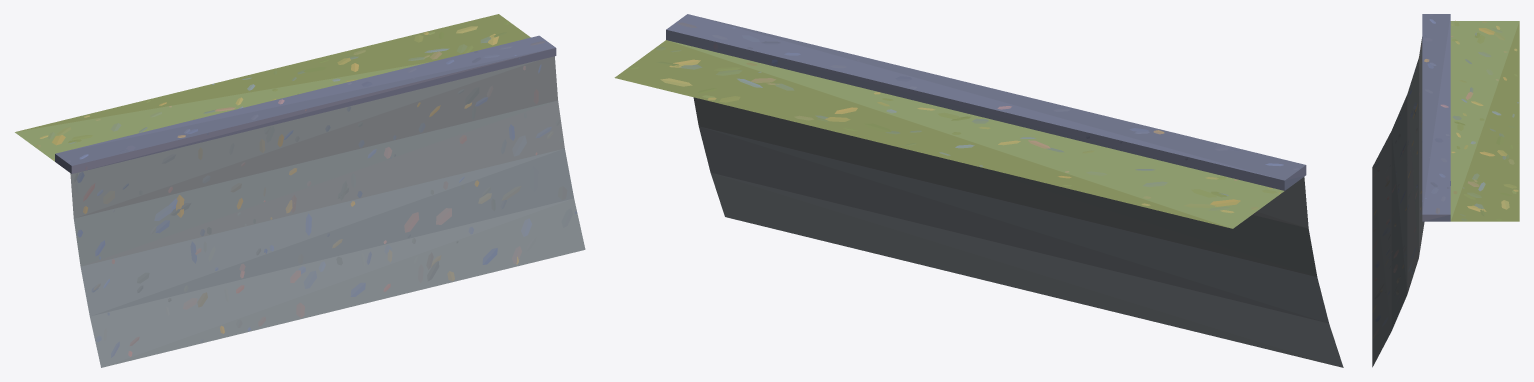
File: HK_Ishigaki.glb
3 views of the same model, side by side, from view 1: azimuth 30°, elevation 25°; view 2: azimuth 150°, elevation 25°; view 3: azimuth 270°, elevation 25° (orthographic). The views are drawn at different scales.
Parts seen in each view (by area): view 1: HK_Ishigaki; view 2: HK_Ishigaki; view 3: HK_Ishigaki.
Part boxes in pixels (box(x1,y1,x2,y2)): HK_Ishigaki: box(15, 14, 585, 367); HK_Ishigaki: box(614, 14, 1343, 367); HK_Ishigaki: box(1372, 14, 1519, 367).
Size of the model in its own units: 10 by 3.57 by 3.1.
